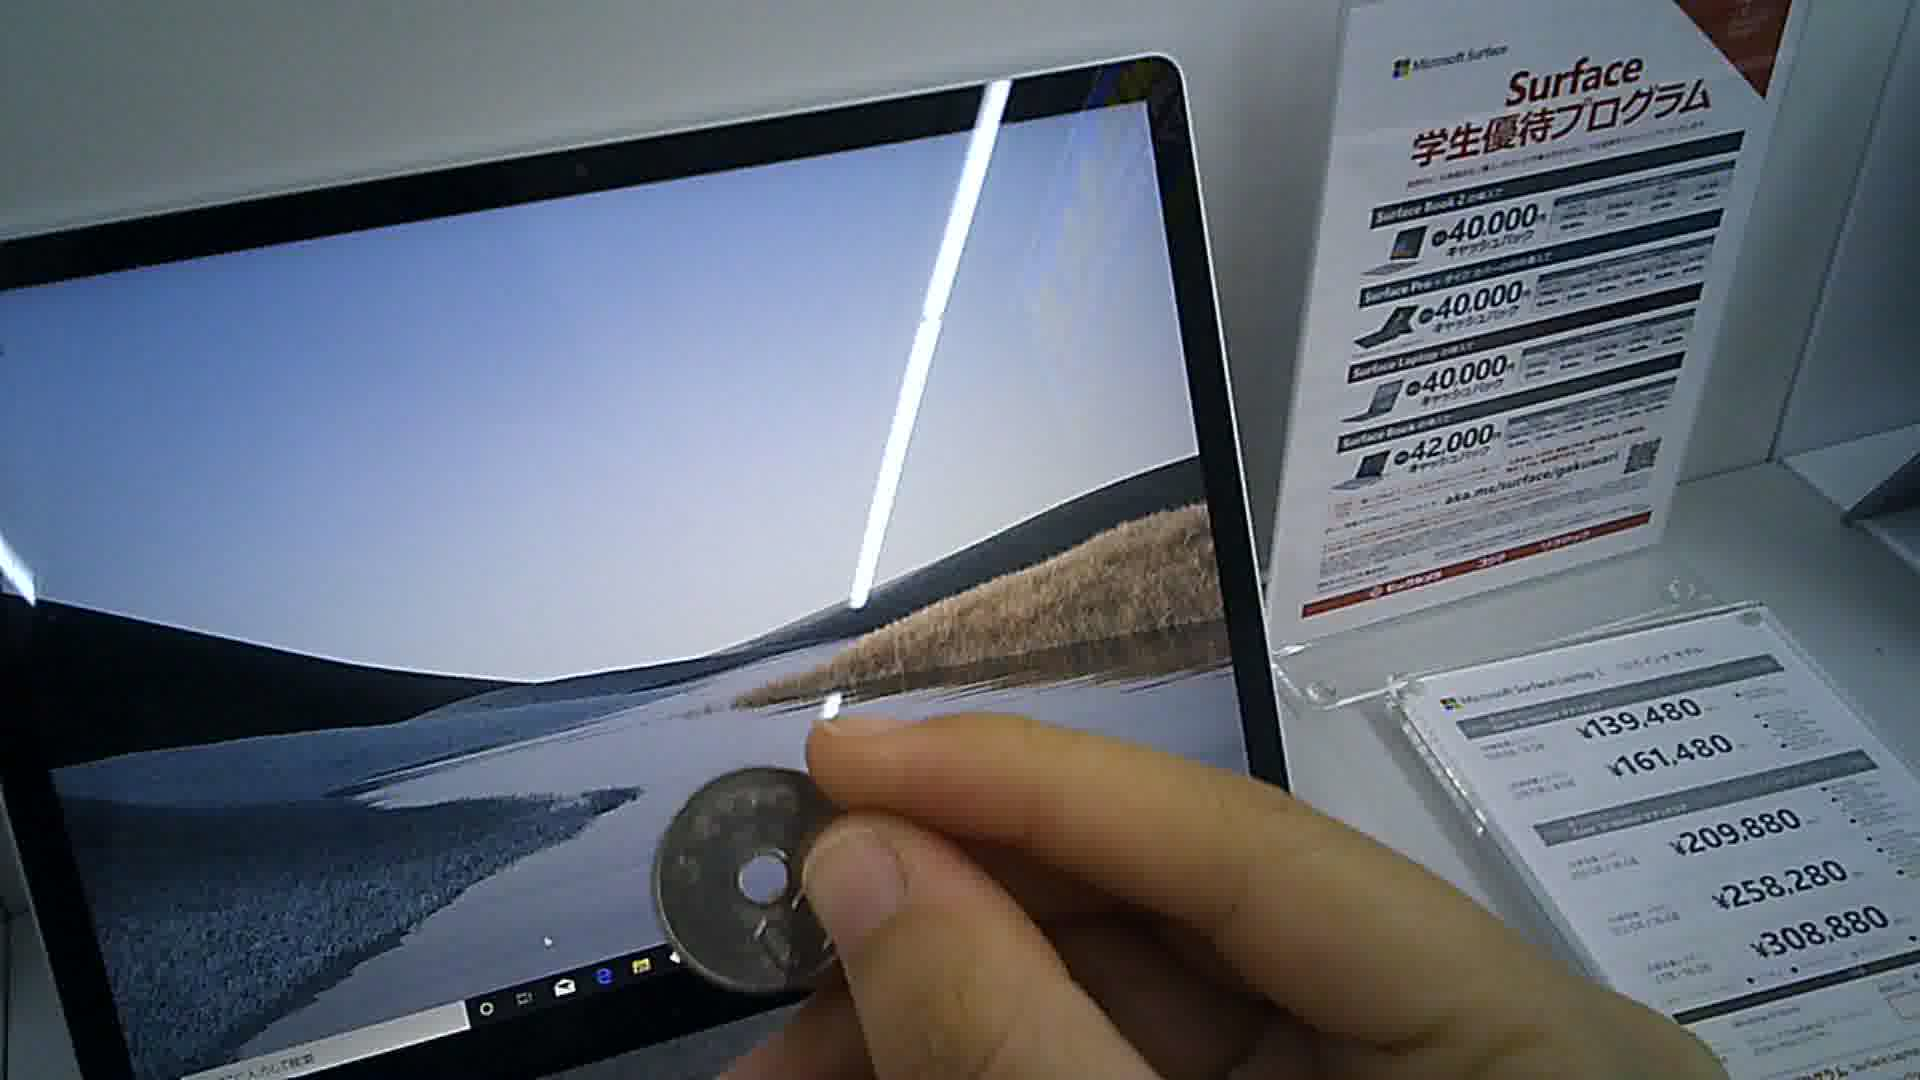50 Yen: (649, 767, 869, 994)
